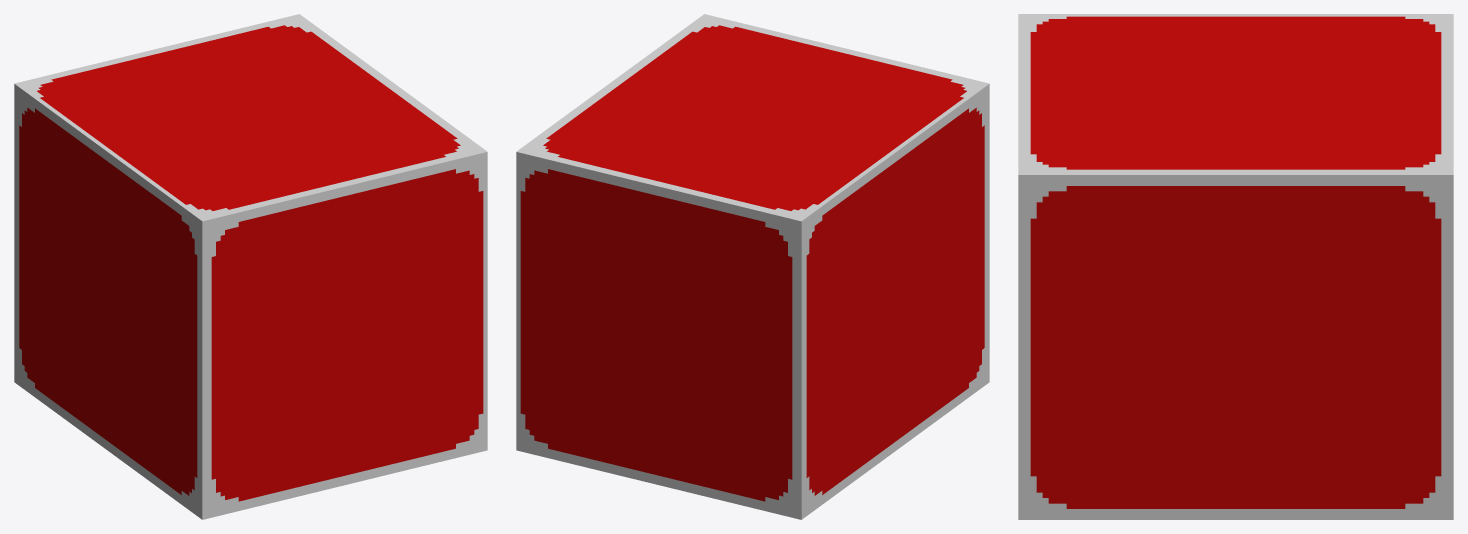
File: house_simple_red_cube.obj
3 views of the same model, side by side, from view 1: azimuth 30°, elevation 25°; view 2: azimuth 150°, elevation 25°; view 3: azimuth 270°, elevation 25° (orthographic). The views are drawn at different scales.
Size of the model in its own units: 6.3 by 6.3 by 7.2.
Materials: 1 (1 with a texture image).
